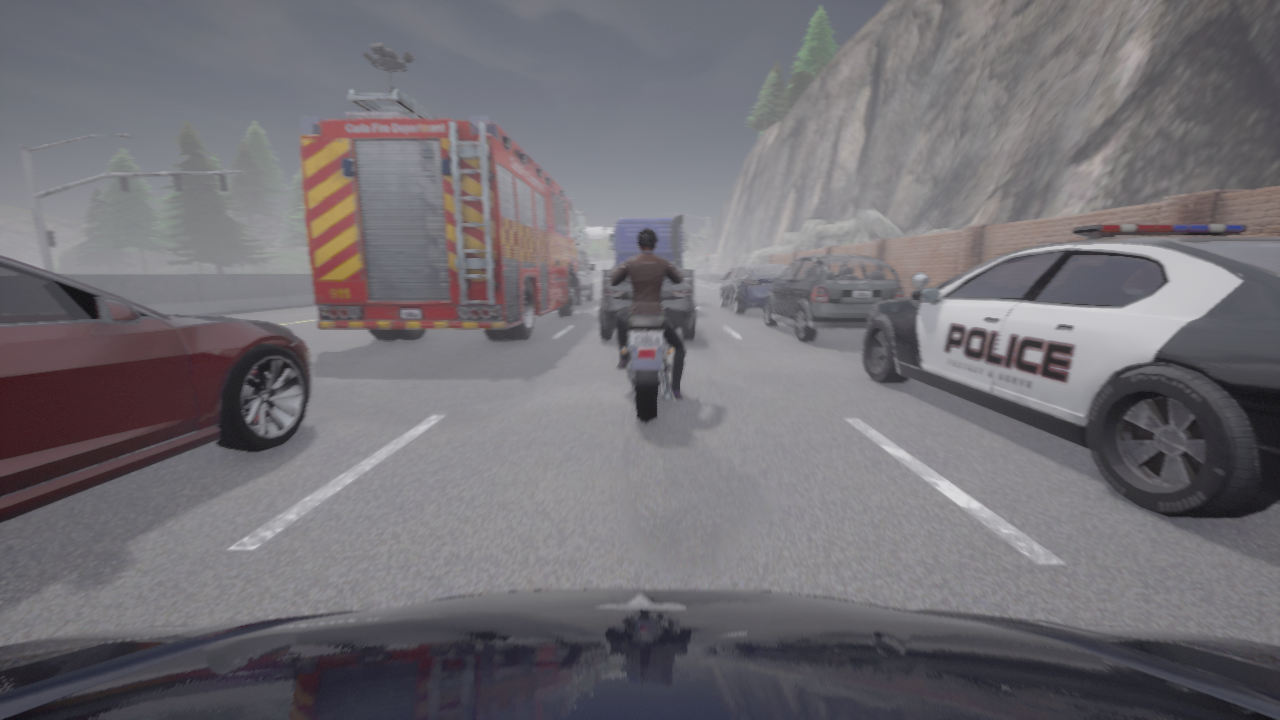cyclist: (0, 588, 1279, 719), (863, 223, 1279, 518), (300, 89, 586, 340), (763, 255, 903, 341), (612, 267, 684, 421), (599, 261, 696, 340), (601, 214, 694, 295), (719, 264, 787, 314), (575, 241, 594, 305), (720, 274, 729, 279)
